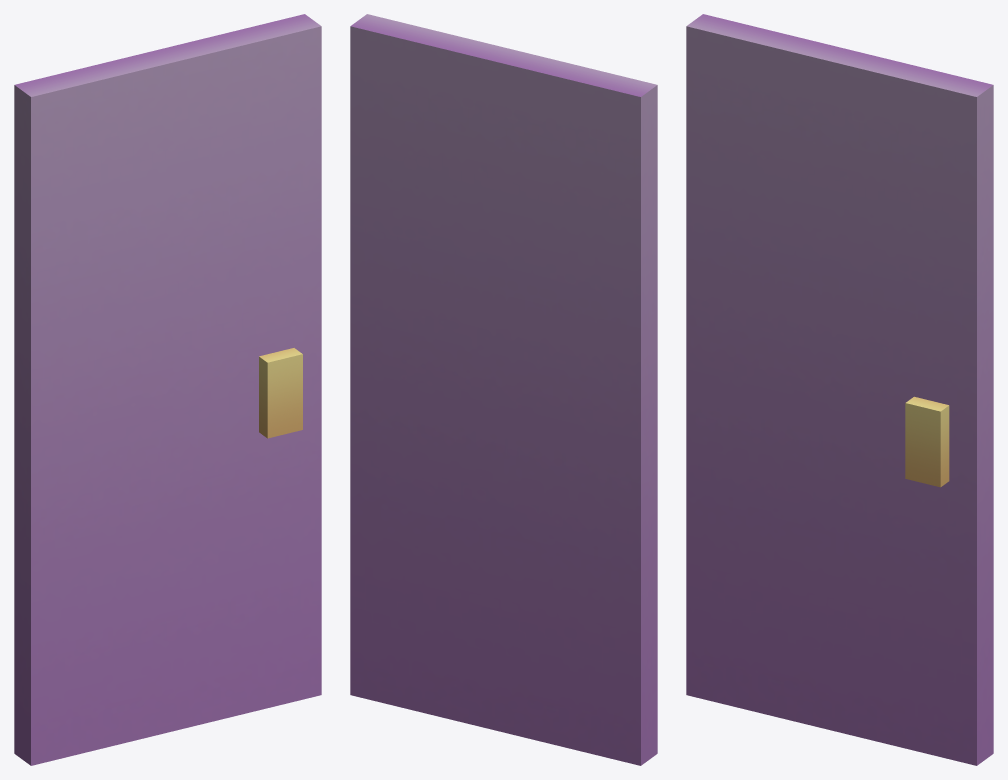
The model's file is Door.fbx.
3 renders of one model, left to right at view 1: azimuth 30°, elevation 25°; view 2: azimuth 150°, elevation 25°; view 3: azimuth 330°, elevation 25°, orthographic.
Parts seen in each view (by area): view 1: Door; view 2: Door; view 3: Door.
Boxes of the visible parts, x1,y1,x2,y2 form: Door: (14, 14, 321, 765); Door: (350, 14, 657, 765); Door: (686, 14, 993, 765).
Bounding box in the file's own units: 100 × 220 × 15.17.
